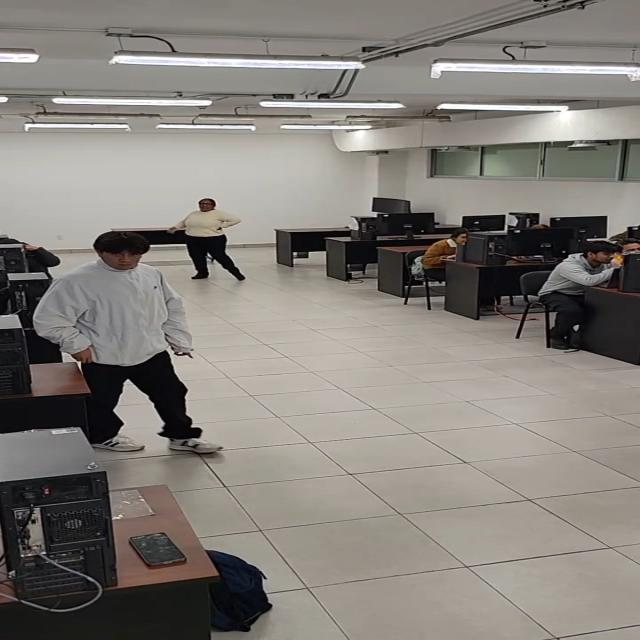Persona: (40, 233, 213, 449), (180, 196, 244, 282)
